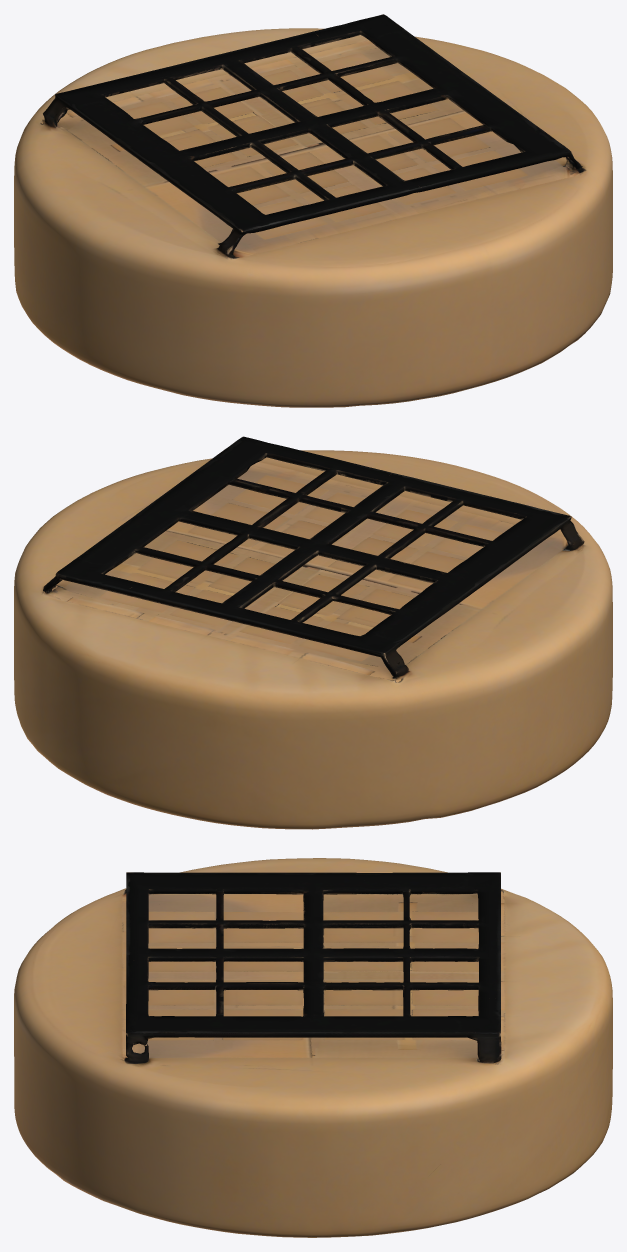
File: Player_Wall.fbx
The picture shows the model from 3 angles, top to bottom: view 1: azimuth 30°, elevation 25°; view 2: azimuth 150°, elevation 25°; view 3: azimuth 270°, elevation 25°; orthographic projection.
Parts seen in each view (by area): view 1: input; view 2: input; view 3: input.
Part boxes in pixels (box(x1,y1,x2,y2)): input: box(14, 14, 612, 407); input: box(14, 436, 612, 829); input: box(14, 858, 612, 1237).
Size of the model in its own units: 200 by 59.68 by 200.
1 material, 1 textured.
